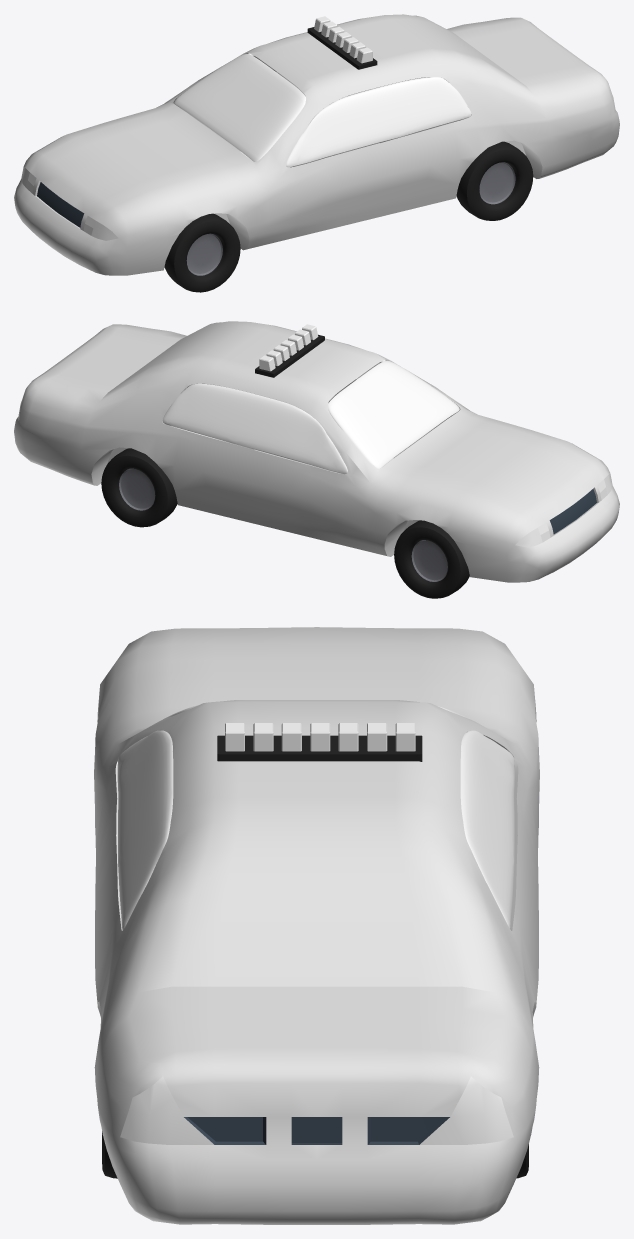
The model's file is Police Car White.fbx.
The picture shows the model from 3 angles, top to bottom: view 1: azimuth 30°, elevation 25°; view 2: azimuth 150°, elevation 25°; view 3: azimuth 270°, elevation 25°; orthographic projection. The views are drawn at different scales.
Visible parts, largest first — view 1: Body, Side Window, Cube.001, Front Wheels.001, Front Wheels, Cube.002, Cube; view 2: Body, Side Window, Cube.001, Front Wheels.001, Front Wheels, Cube.002, Cube; view 3: Body, Side Window, Cube.002, Cube.
Part boxes in pixels (left/top/right/bottom): Body: left=14, top=14, right=619, bottom=275; Side Window: left=248, top=53, right=471, bottom=167; Cube.001: left=174, top=54, right=305, bottom=161; Front Wheels.001: left=456, top=141, right=533, bottom=220; Front Wheels: left=164, top=213, right=240, bottom=292; Cube.002: left=314, top=16, right=372, bottom=63; Cube: left=307, top=27, right=377, bottom=69; Body: left=14, top=321, right=619, bottom=582; Side Window: left=162, top=360, right=385, bottom=474; Cube.001: left=327, top=360, right=459, bottom=468; Front Wheels.001: left=101, top=448, right=177, bottom=527; Front Wheels: left=394, top=520, right=469, bottom=598; Cube.002: left=259, top=324, right=318, bottom=371; Cube: left=255, top=334, right=324, bottom=377; Body: left=94, top=627, right=539, bottom=1224; Side Window: left=117, top=730, right=514, bottom=930; Cube.002: left=225, top=723, right=415, bottom=751; Cube: left=217, top=735, right=422, bottom=761.
Bounding box in the file's own units: 329 × 101 × 118.
